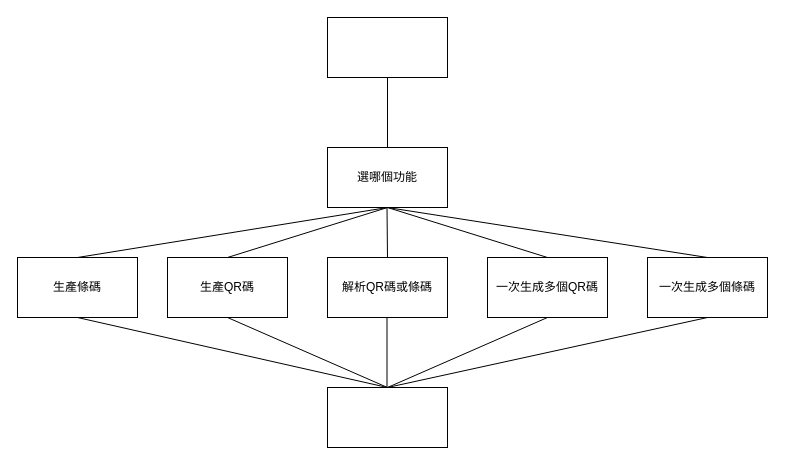
This 785x465 diagram has some shape labels left out. The shapes that lost their labels are listed below. From the top down, each one's centre as x and y in pixels, then its label:
the point at 387,47: 開始程式碼
the point at 387,417: 保存結果
